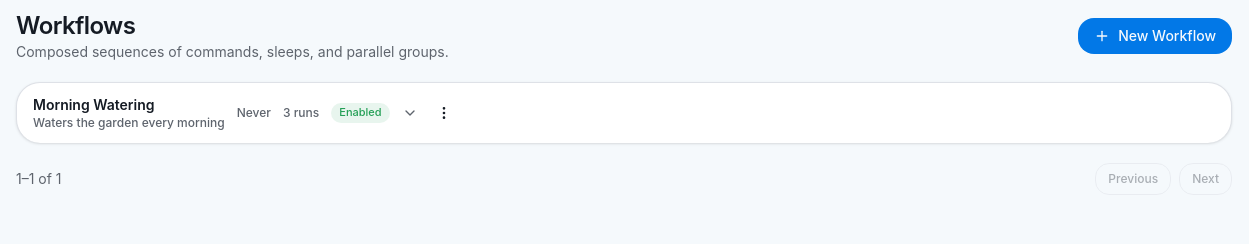
WorkflowsPage › shows a 'never run' message when a row is expanded with no latest run
The width and height of the screenshot is (1249, 244).
Click the button with test id "workflow-row". click: (225, 113)
box: 33,83 -> 418,143
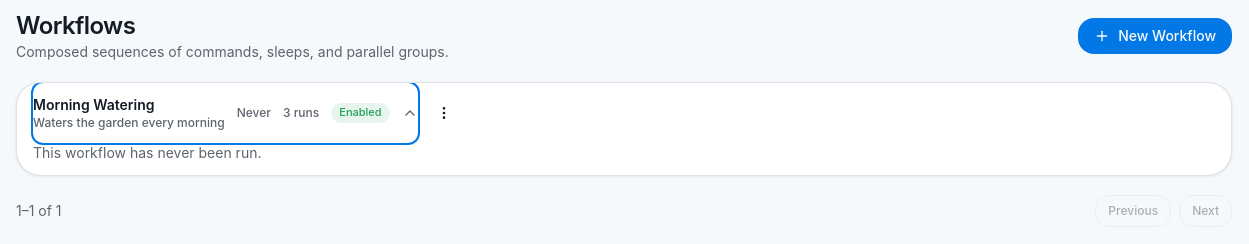
Expected: the text "This workflow has never been run." is shown, 33,144 -> 262,161
